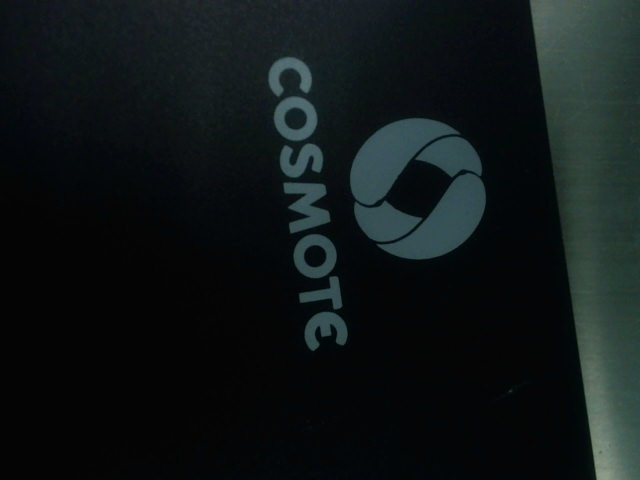AU_COSMOTE: (255, 55, 496, 358)
